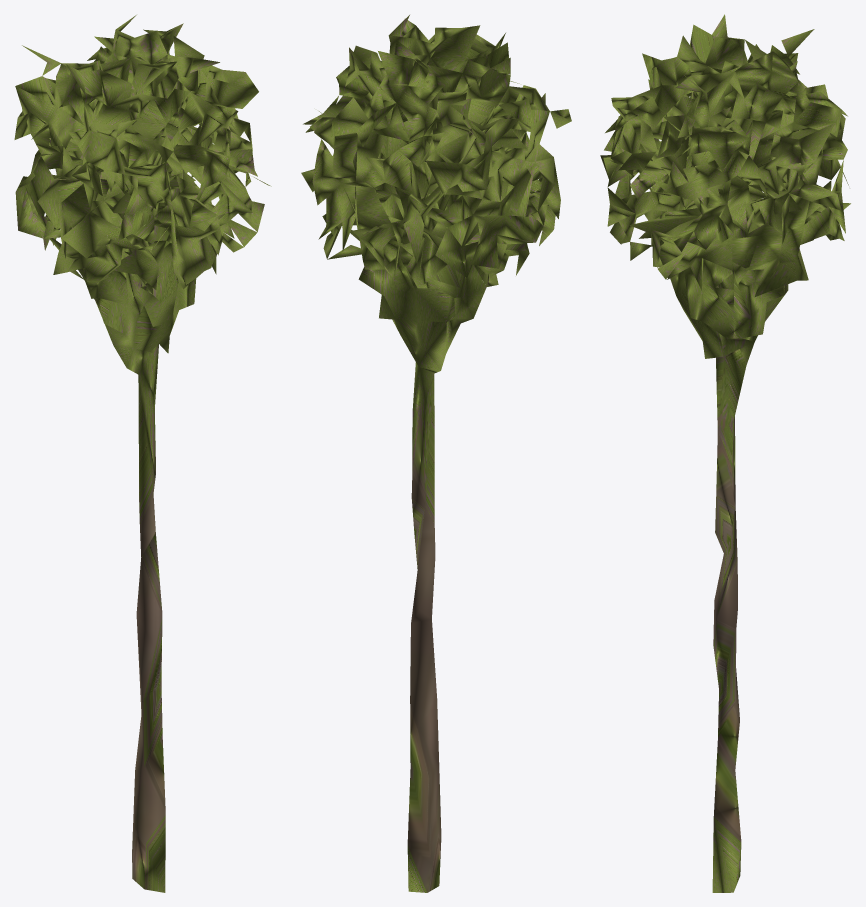
Rendered from lagoon_a_lod1.glb.
3 renders of one model, left to right at view 1: azimuth 30°, elevation 25°; view 2: azimuth 150°, elevation 25°; view 3: azimuth 270°, elevation 25°, orthographic. The views are drawn at different scales.
Size of the model in its own units: 0.5282 by 1.94 by 0.5278.
Materials: 1 (1 with a texture image).
